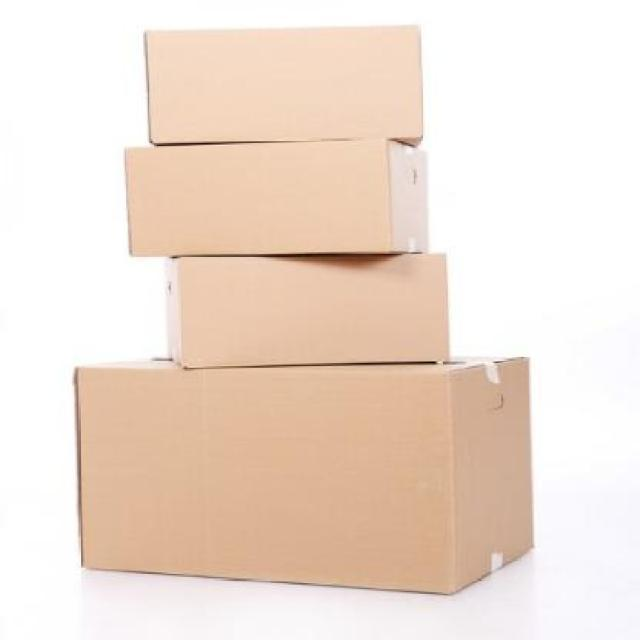BoxFace: (71, 366, 457, 596), (141, 26, 427, 146), (173, 249, 450, 371), (123, 137, 392, 256)
